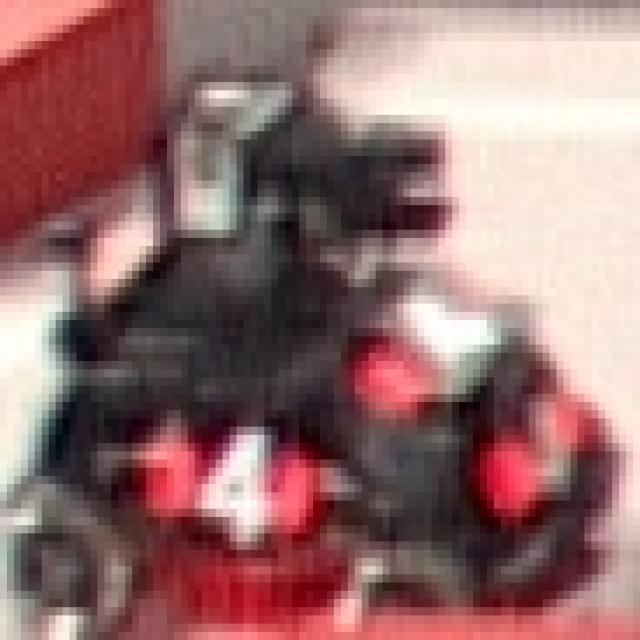R4: (448, 373, 622, 538), (142, 402, 324, 550), (341, 258, 508, 414)
